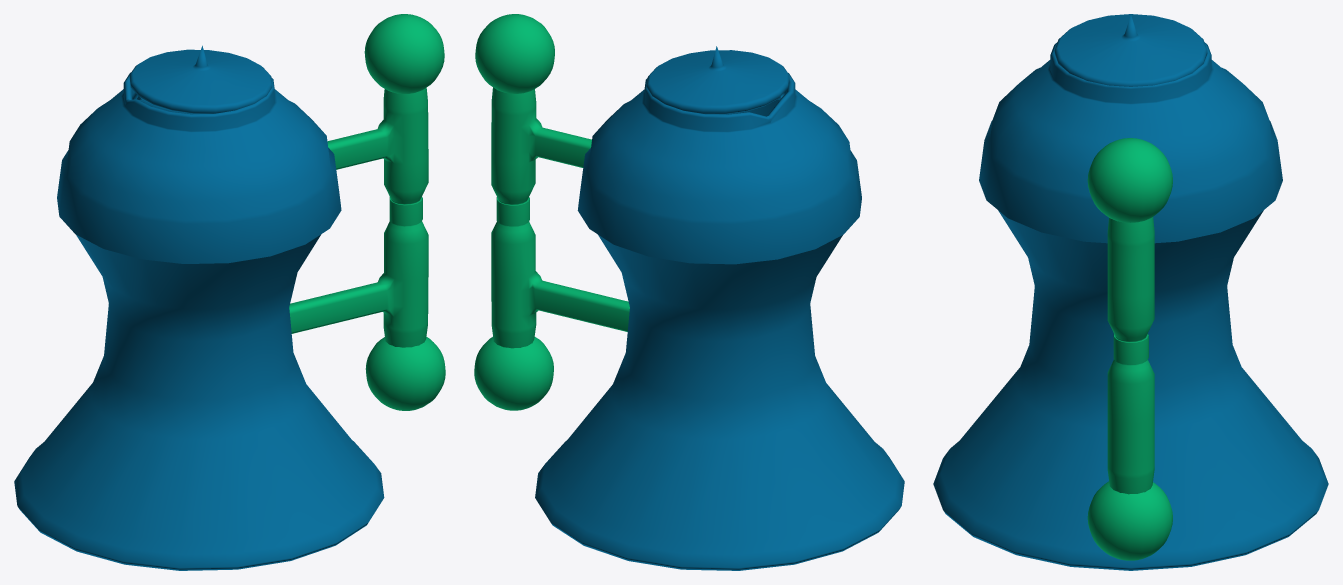
The model's file is Tavern_Kettle_FBX.fbx.
3 views of the same model, side by side, from view 1: azimuth 30°, elevation 25°; view 2: azimuth 150°, elevation 25°; view 3: azimuth 270°, elevation 25° (orthographic). The views are drawn at different scales.
Parts seen in each view (by area): view 1: Tavern_Kettle; view 2: Tavern_Kettle; view 3: Tavern_Kettle.
Boxes of the visible parts, x1=… form: Tavern_Kettle: x1=14, y1=14, x2=445, y2=570; Tavern_Kettle: x1=474, y1=14, x2=904, y2=570; Tavern_Kettle: x1=933, y1=14, x2=1328, y2=570.
Bounding box in the file's own units: 44.35 × 35.53 × 47.19.
